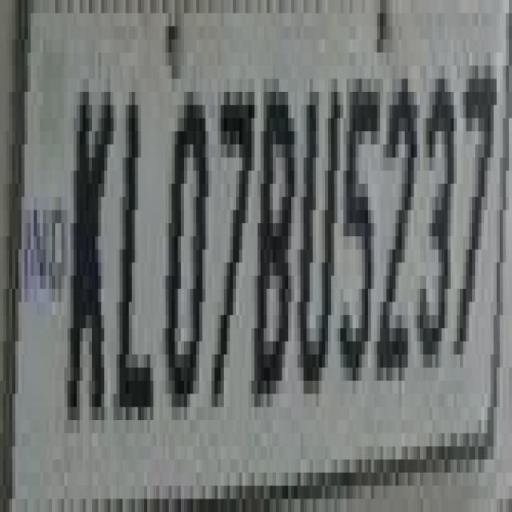number plate: (0, 0, 488, 512)
